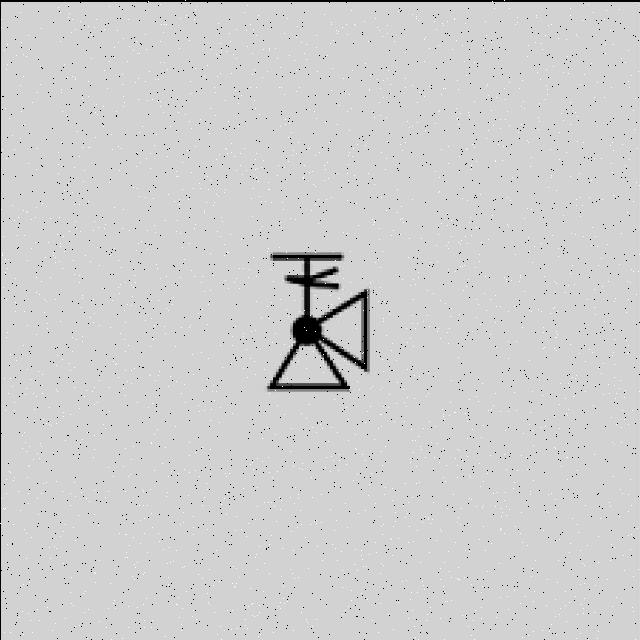Hand Operated Angle Valve: (232, 215, 416, 426)
